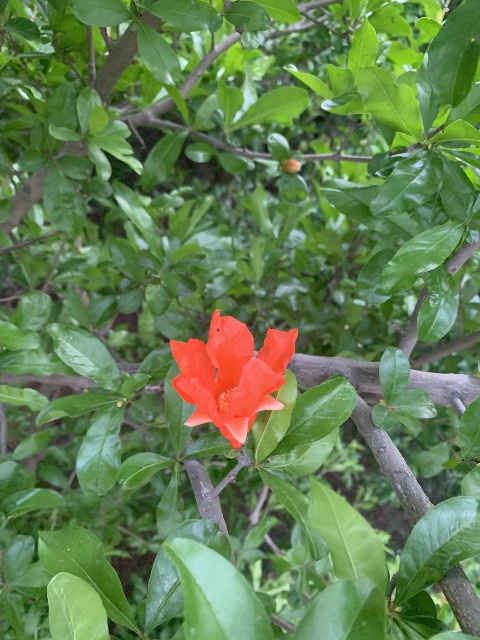bud: (283, 158, 300, 173)
flower: (169, 307, 297, 449)
